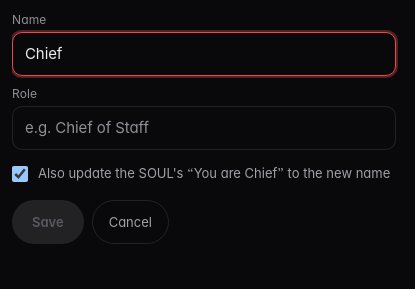
Test: shows why a rename was refused
Step 1. Replace the text in the field labelled "Name" with "A - B" → (204, 54), box x1=12 y1=32 x2=396 y2=76
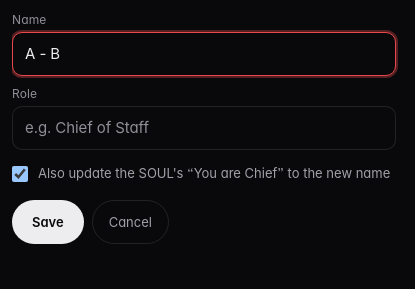
Step 2. Click the button "Save" → (48, 222), box x1=12 y1=200 x2=84 y2=244
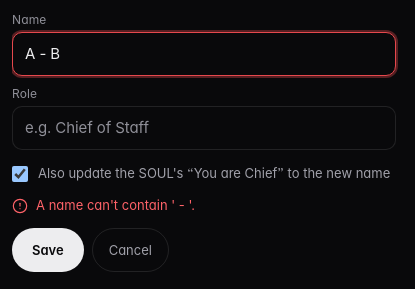
Expected: the message shows "can't contain", x1=36 y1=197 x2=195 y2=213
